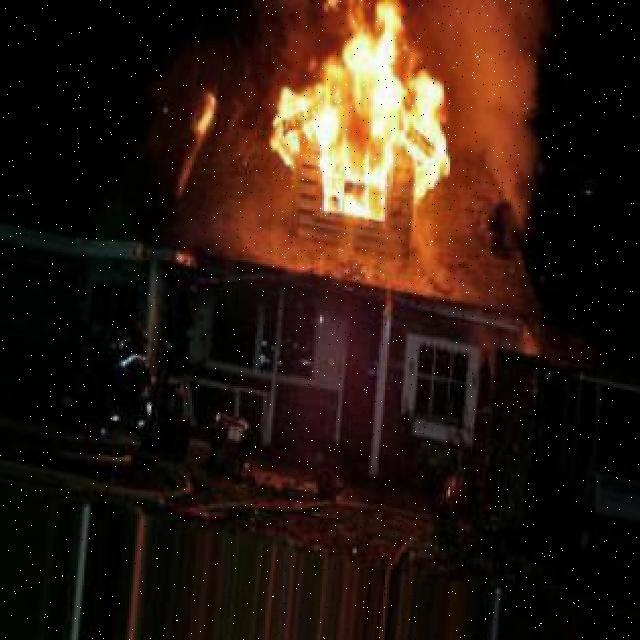fire: (277, 0, 448, 223), (186, 85, 218, 138)
smoke: (451, 2, 558, 223)
